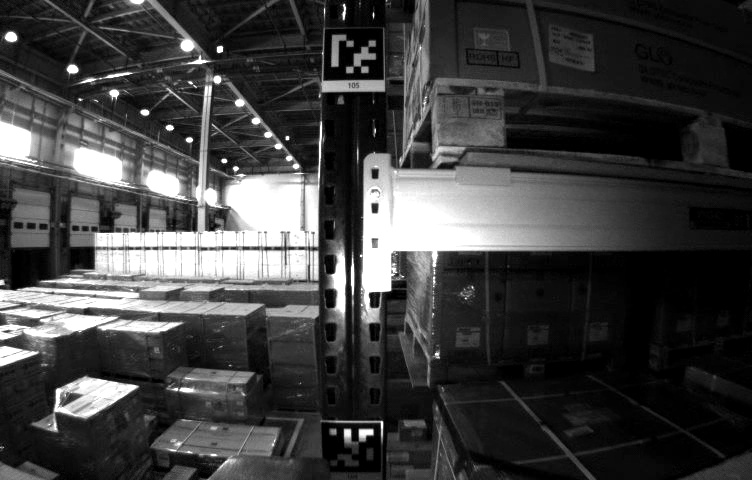True Barcode: (546, 21, 598, 73)
